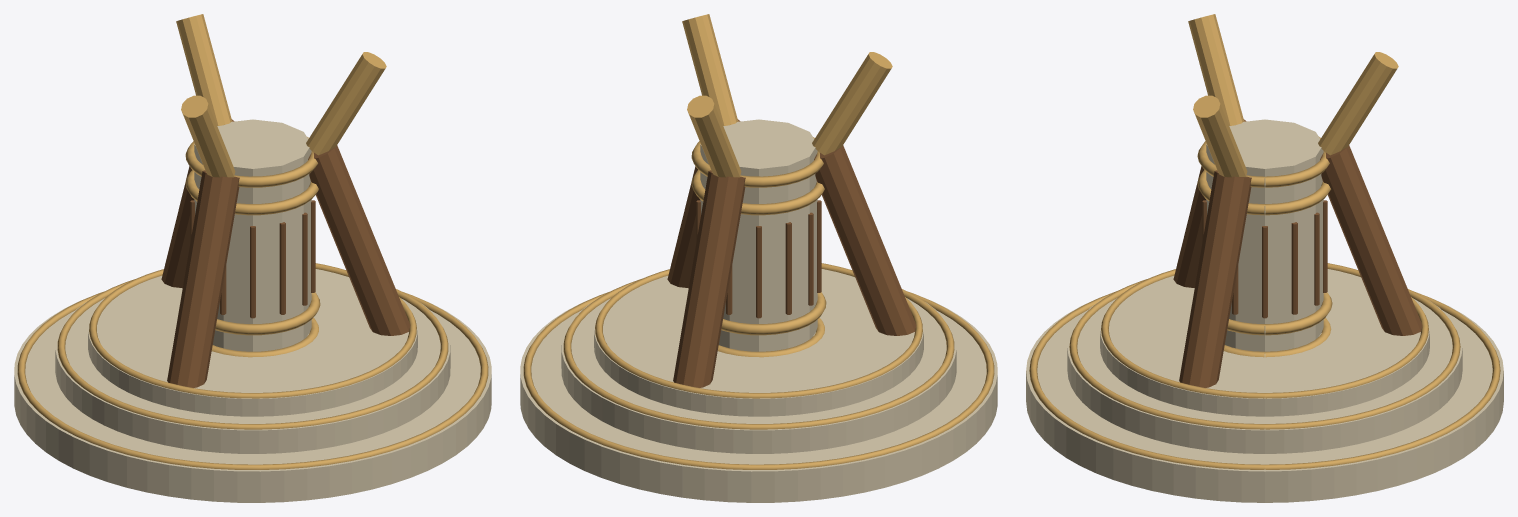
The model's file is solar-altar.glb.
3 renders of one model, left to right at view 1: azimuth 30°, elevation 25°; view 2: azimuth 150°, elevation 25°; view 3: azimuth 270°, elevation 25°, orthographic.
Parts seen in each view (by area): view 1: V04 altar limestone 2, V04 engraved warm brass 0, V04 aged bronze 1; view 2: V04 altar limestone 2, V04 engraved warm brass 0, V04 aged bronze 1; view 3: V04 altar limestone 2, V04 engraved warm brass 0, V04 aged bronze 1.
Boxes of the visible parts, x1=… form: V04 altar limestone 2: x1=14, y1=119, x2=491, y2=502; V04 engraved warm brass 0: x1=17, y1=14, x2=488, y2=469; V04 aged bronze 1: x1=161, y1=119, x2=410, y2=387; V04 altar limestone 2: x1=520, y1=119, x2=997, y2=502; V04 engraved warm brass 0: x1=523, y1=14, x2=994, y2=469; V04 aged bronze 1: x1=667, y1=119, x2=916, y2=387; V04 altar limestone 2: x1=1026, y1=119, x2=1503, y2=502; V04 engraved warm brass 0: x1=1029, y1=14, x2=1500, y2=469; V04 aged bronze 1: x1=1173, y1=119, x2=1422, y2=387.
Bounding box in the file's own units: 2.2 × 1.76 × 2.2.
